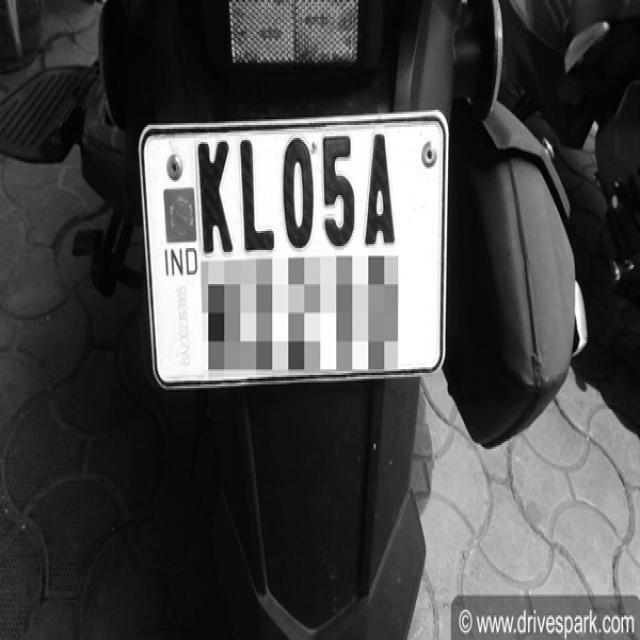License_Plate: (135, 110, 449, 380)
